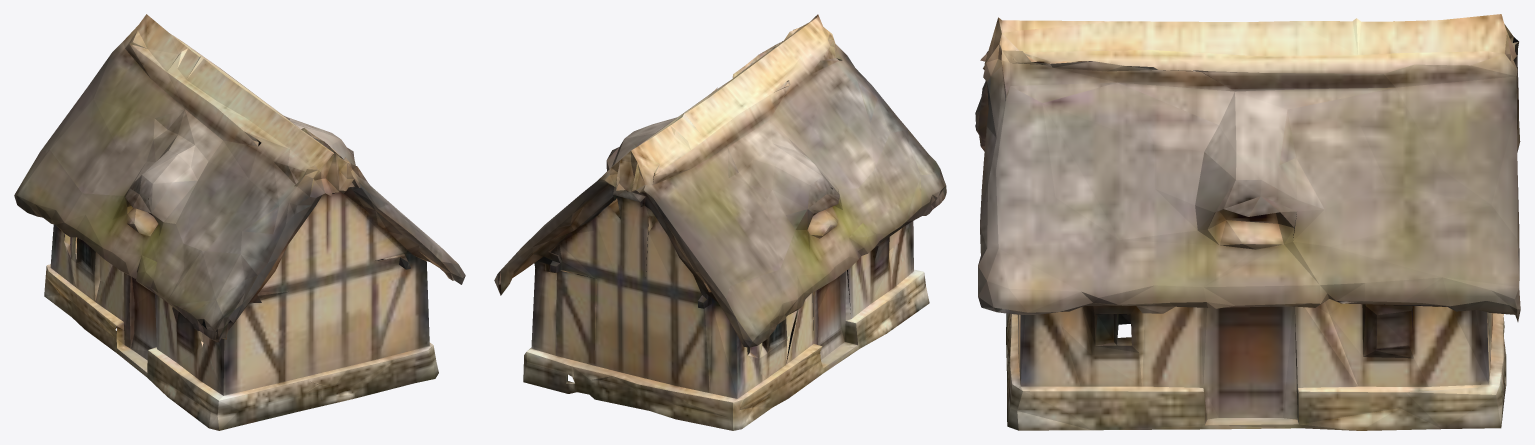
The model's file is ga3_house2_t1_lod1.glb.
3 renders of one model, left to right at view 1: azimuth 30°, elevation 25°; view 2: azimuth 150°, elevation 25°; view 3: azimuth 270°, elevation 25°, orthographic. The views are drawn at different scales.
Visible parts, largest first — view 1: ga3_house2_t1_lod1; view 2: ga3_house2_t1_lod1; view 3: ga3_house2_t1_lod1.
Boxes of the visible parts, x1=… form: ga3_house2_t1_lod1: x1=14, y1=14, x2=465, y2=430; ga3_house2_t1_lod1: x1=494, y1=14, x2=946, y2=430; ga3_house2_t1_lod1: x1=975, y1=14, x2=1520, y2=430.
Bounding box in the file's own units: 5.91 × 5.57 × 7.98.
1 material, 1 textured.
